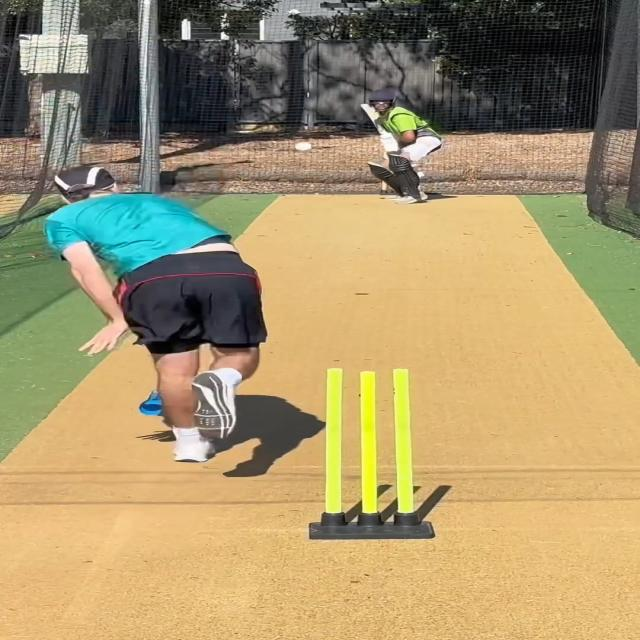ball: (292, 141, 315, 153)
stump: (305, 366, 437, 540)
